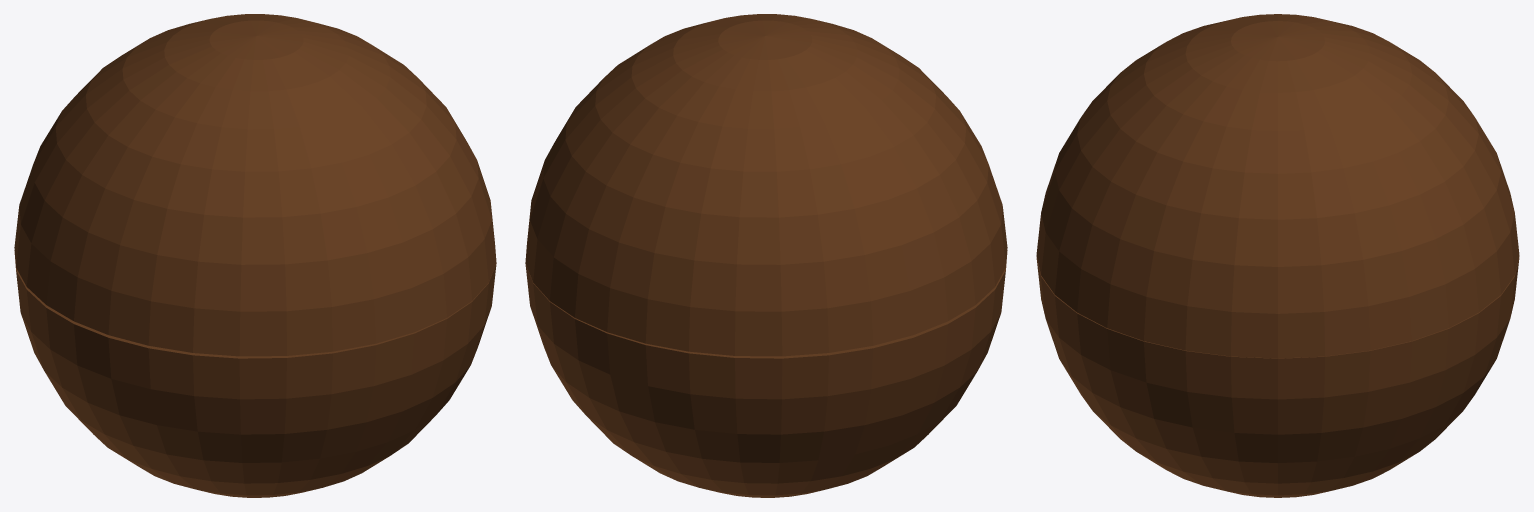
Rendered from coconut.glb.
The picture shows the model from 3 angles, left to right: view 1: azimuth 30°, elevation 25°; view 2: azimuth 150°, elevation 25°; view 3: azimuth 270°, elevation 25°; orthographic projection.
Visible parts, largest first — view 1: TopOut, BottomOut; view 2: TopOut, BottomOut; view 3: TopOut, BottomOut.
Part boxes in pixels (x1,y1,x2,y2): TopOut: [14, 14, 496, 356]; BottomOut: [14, 250, 496, 497]; TopOut: [525, 14, 1007, 356]; BottomOut: [525, 250, 1007, 497]; TopOut: [1036, 14, 1519, 358]; BottomOut: [1036, 256, 1519, 497].
Size of the model in its own units: 5.39 by 5.41 by 5.39.
